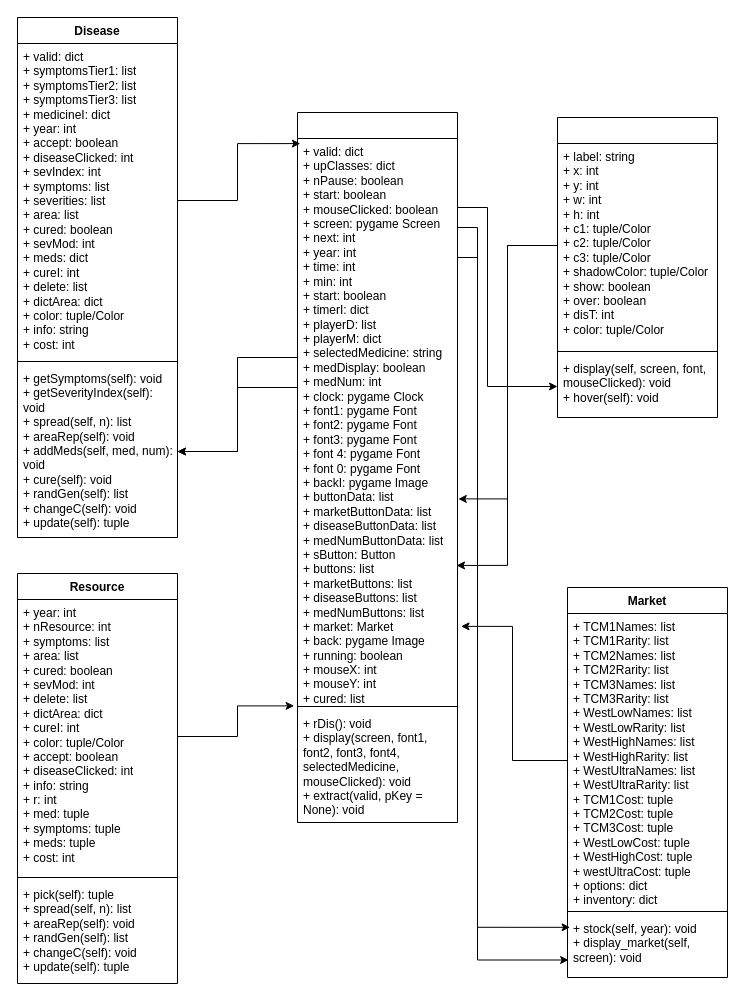
The diagram is 745 pixels wide and 1004 high, and some of its shapes have lost their labels. The box of each missing label's shape, as (x1, y1, x2, y2) in pixels:
Button: (556, 116, 718, 418)
DaoistPharmaceutical: (296, 112, 458, 822)
